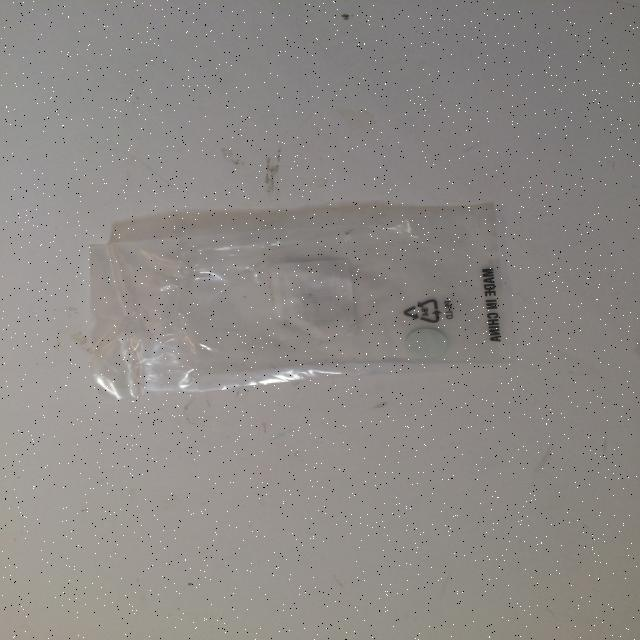plastic: (86, 201, 512, 401)
